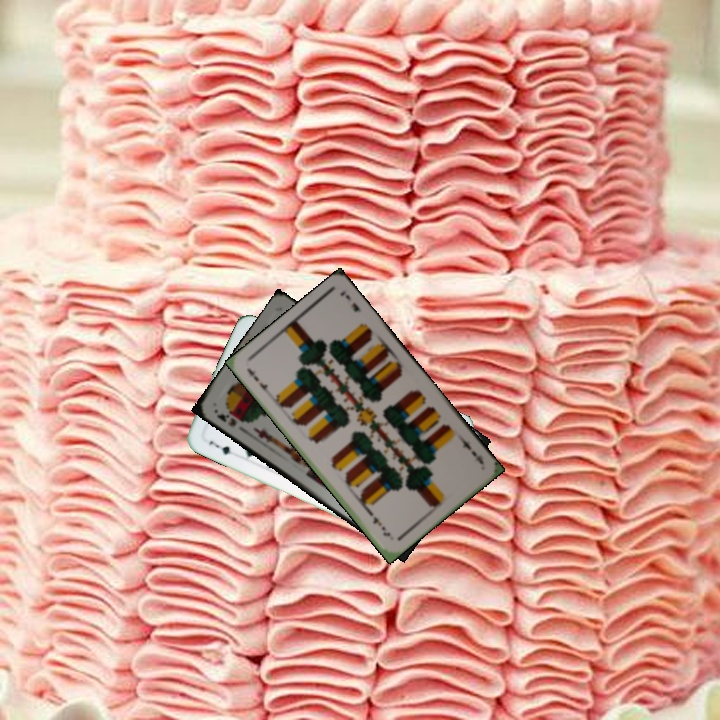E7: (242, 364, 274, 398), (455, 432, 486, 467)
G7: (205, 437, 234, 457)
SK: (213, 410, 239, 429)
